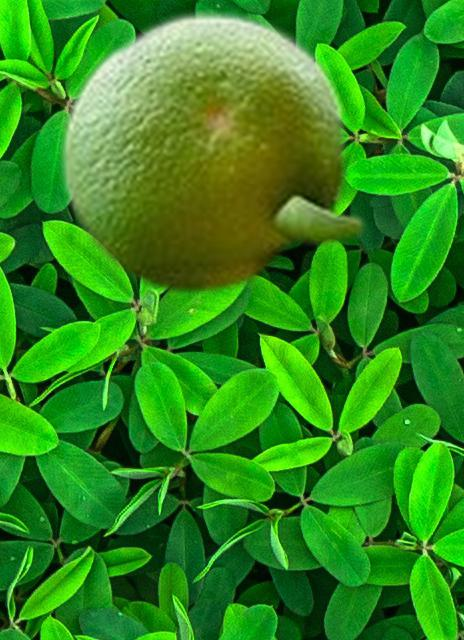dalandan: (56, 6, 369, 295)
